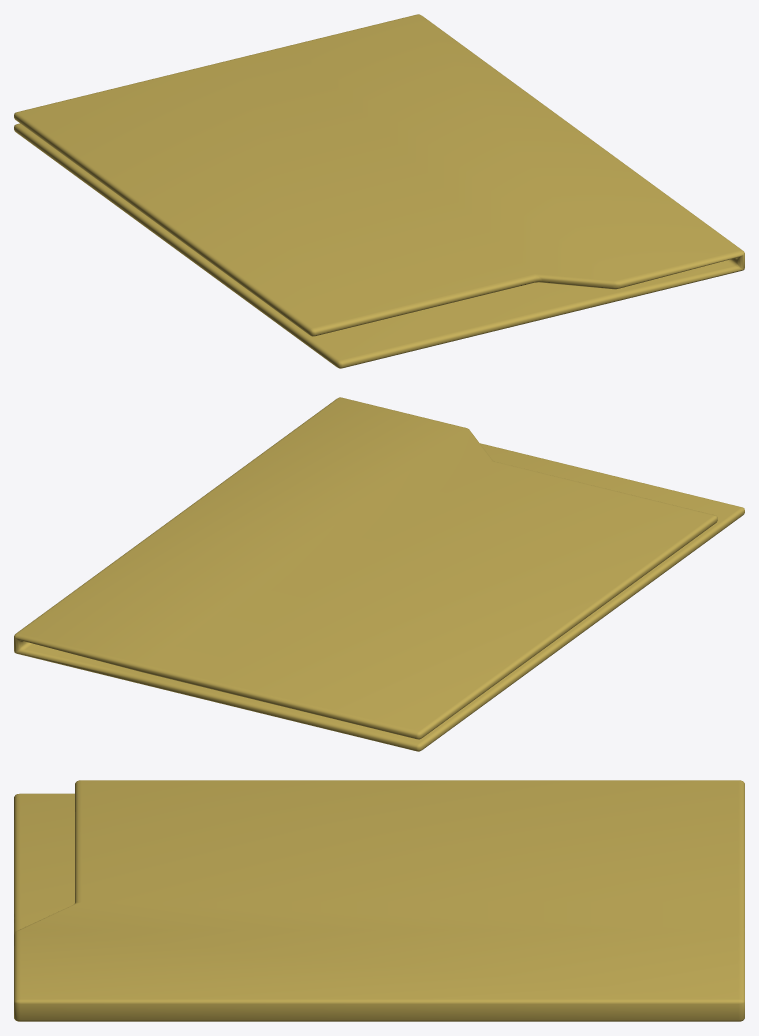
The model's file is plik.fbx.
3 renders of one model, top to bottom at view 1: azimuth 30°, elevation 25°; view 2: azimuth 150°, elevation 25°; view 3: azimuth 270°, elevation 25°, orthographic. The views are drawn at different scales.
Parts seen in each view (by area): view 1: Cube.004; view 2: Cube.004; view 3: Cube.004.
Part boxes in pixels (x1,y1,x2,y2): Cube.004: [14, 14, 744, 368]; Cube.004: [14, 397, 744, 751]; Cube.004: [14, 780, 744, 1021].
Bounding box in the file's own units: 50.19 × 2.33 × 69.76.
